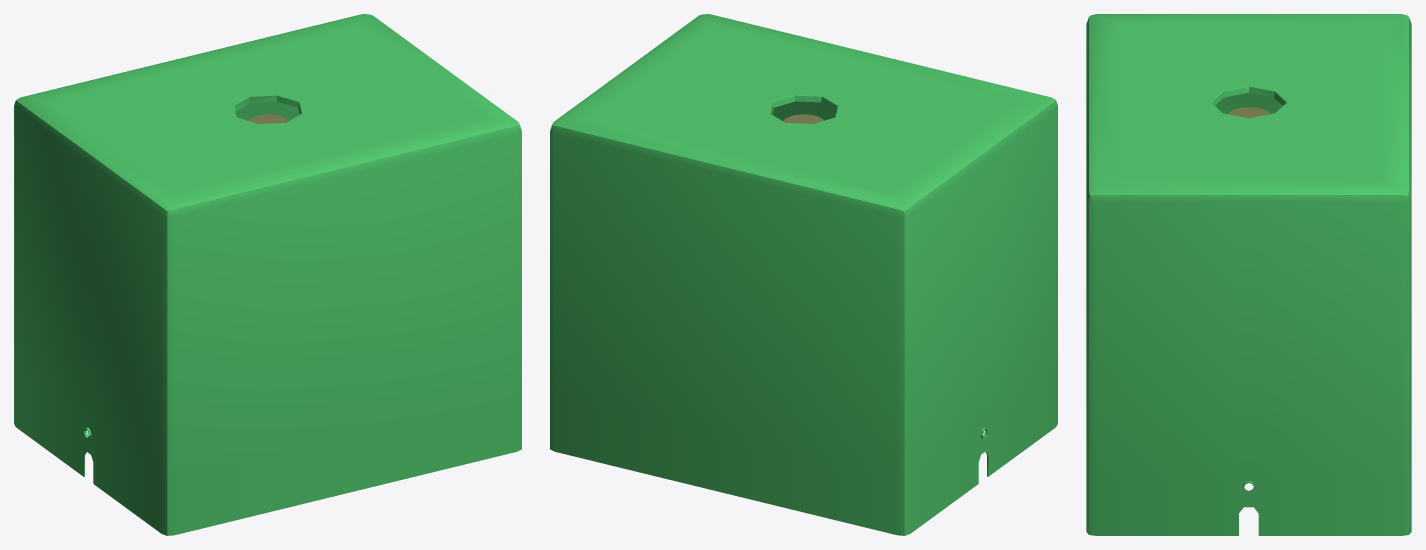
File: bank4.fbx
3 views of the same model, side by side, from view 1: azimuth 30°, elevation 25°; view 2: azimuth 150°, elevation 25°; view 3: azimuth 270°, elevation 25° (orthographic). The views are drawn at different scales.
Parts seen in each view (by area): view 1: bank4_LOD0; view 2: bank4_LOD0; view 3: bank4_LOD0.
Part boxes in pixels (<box>): bank4_LOD0: <box>14,14,521,535</box>; bank4_LOD0: <box>550,14,1057,535</box>; bank4_LOD0: <box>1086,14,1411,535</box>.
Size of what is drawn, in the model's own units: 2.56 by 2.2 by 1.9.
